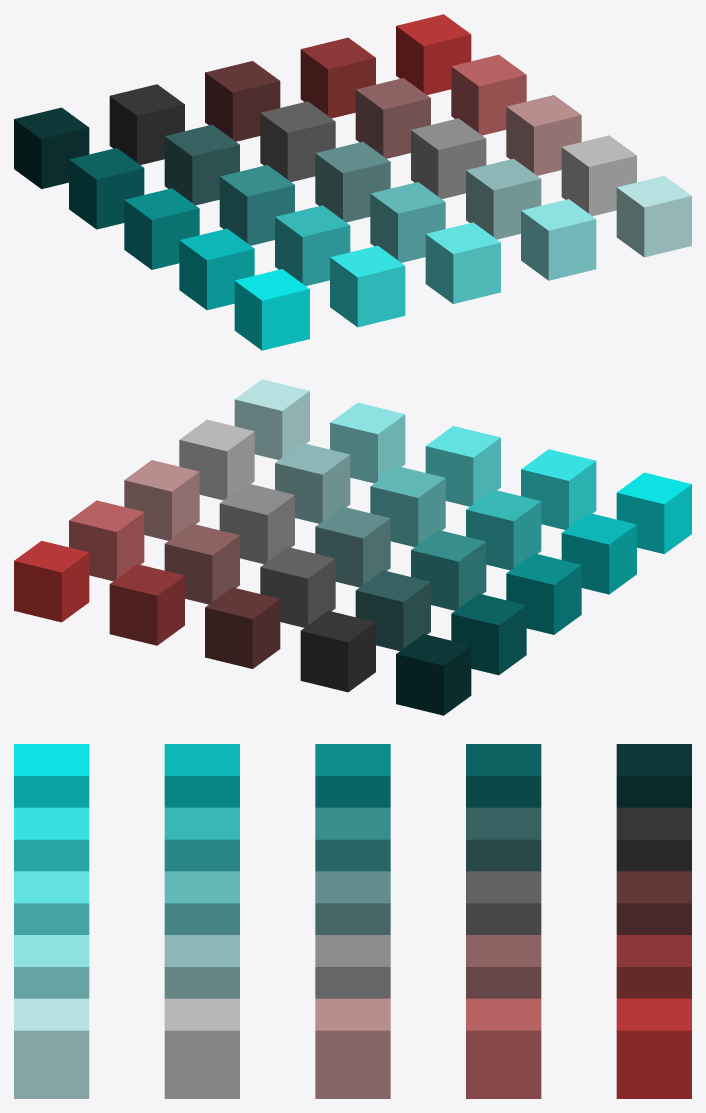
File: set_material_export_fbx.fbx
3 renders of one model, top to bottom at view 1: azimuth 30°, elevation 25°; view 2: azimuth 150°, elevation 25°; view 3: azimuth 270°, elevation 25°, orthographic. The views are drawn at different scales.
Visible parts, largest first — view 1: オブジェクト_25, オブジェクト_20, オブジェクト_5, オブジェクト_15, オブジェクト_10, オブジェクト_23, オブジェクト_24, オブジェクト_22, オブジェクト_21, オブジェクト_12, オブジェクト_16, オブジェクト_17 (+13 smaller); view 2: オブジェクト_21, オブジェクト_16, オブジェクト_1, オブジェクト_11, オブジェクト_6, オブジェクト_23, オブジェクト_22, オブジェクト_24, オブジェクト_25, オブジェクト_14, オブジェクト_19, オブジェクト_20 (+13 smaller); view 3: オブジェクト_3, オブジェクト_1, オブジェクト_2, オブジェクト_4, オブジェクト_5, オブジェクト_18, オブジェクト_16, オブジェクト_17, オブジェクト_19, オブジェクト_20, オブジェクト_6, オブジェクト_7 (+13 smaller).
Part boxes in pixels (x1,y1,x2,y2): オブジェクト_25: (234,269,309,350); オブジェクト_20: (330,245,405,327); オブジェクト_5: (616,175,691,257); オブジェクト_15: (425,222,500,303); オブジェクト_10: (521,199,596,280); オブジェクト_23: (124,188,199,269); オブジェクト_24: (179,228,254,310); オブジェクト_22: (69,148,144,229); オブジェクト_21: (14,107,89,189); オブジェクト_12: (260,101,335,181); オブジェクト_16: (109,84,184,164); オブジェクト_17: (164,124,239,205); オブジェクト_21: (396,634,471,715); オブジェクト_16: (300,610,375,692); オブジェクト_1: (14,540,89,622); オブジェクト_11: (205,587,280,668); オブジェクト_6: (109,564,184,645); オブジェクト_23: (506,553,581,634); オブジェクト_22: (451,593,526,675); オブジェクト_24: (561,513,636,594); オブジェクト_25: (616,472,691,554); オブジェクト_14: (370,466,445,546); オブジェクト_19: (466,489,541,570); オブジェクト_20: (521,449,596,529); オブジェクト_3: (315,998,390,1098); オブジェクト_1: (616,998,691,1098); オブジェクト_2: (466,998,541,1098); オブジェクト_4: (164,998,239,1098); オブジェクト_5: (14,998,89,1098); オブジェクト_18: (315,807,390,871); オブジェクト_16: (616,807,691,871); オブジェクト_17: (466,807,541,871); オブジェクト_19: (164,807,239,871); オブジェクト_20: (14,807,89,871); オブジェクト_6: (616,935,691,998); オブジェクト_7: (466,935,541,998).
Bounding box in the file's own units: 9 × 9 × 1.
